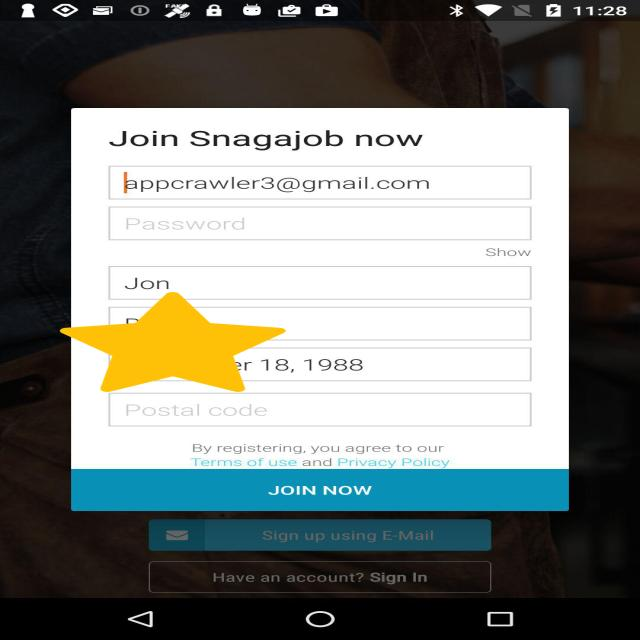forced continuity: (59, 292, 286, 392)
